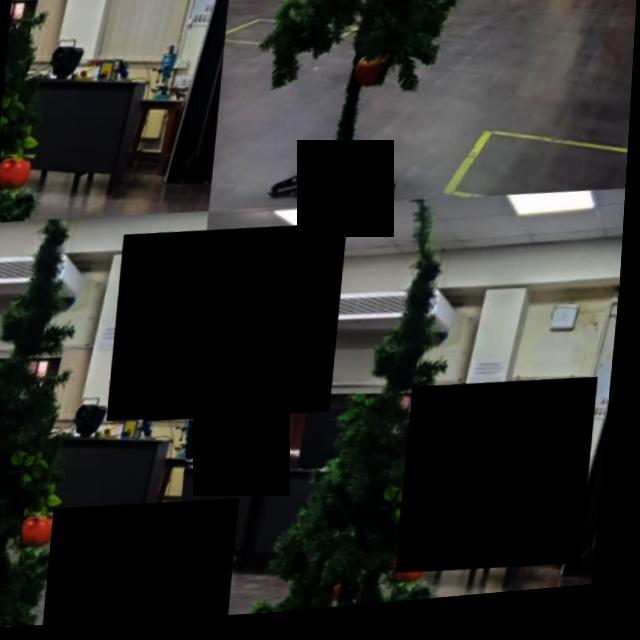Tree: (279, 193, 496, 620), (1, 212, 111, 634), (271, 1, 449, 206), (1, 1, 78, 226)
